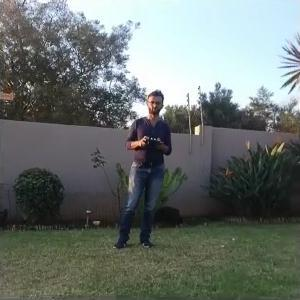follow: (105, 86, 174, 251)
